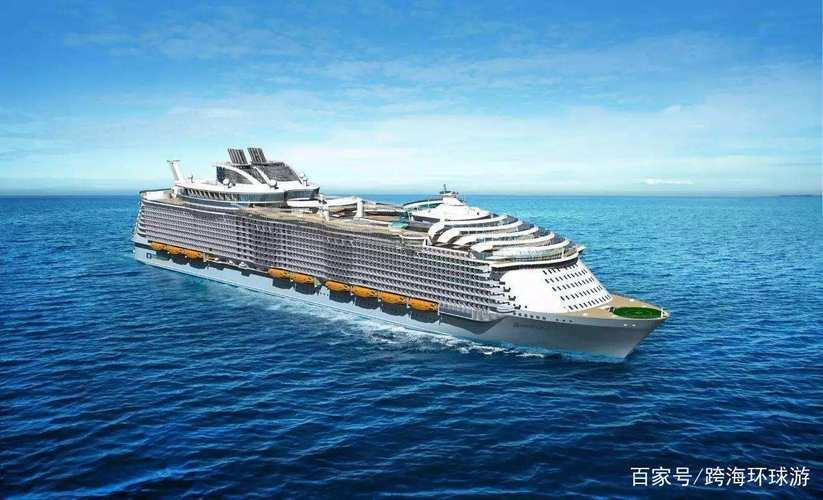Ship: (139, 136, 689, 376)
